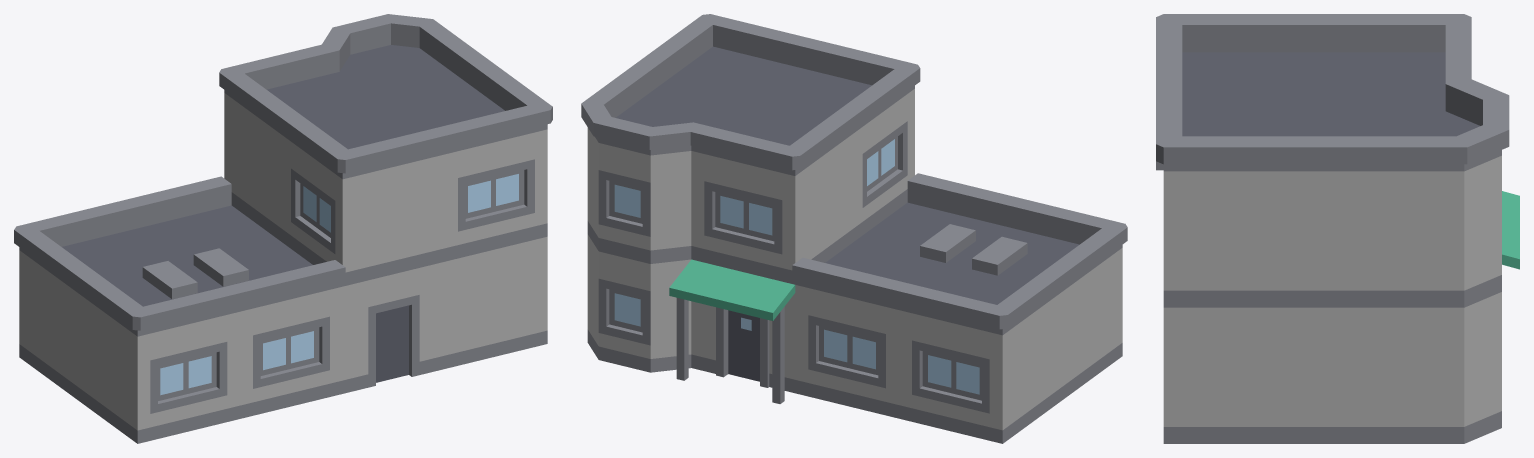
Rendered from small_buildingE.obj.
3 renders of one model, left to right at view 1: azimuth 30°, elevation 25°; view 2: azimuth 150°, elevation 25°; view 3: azimuth 270°, elevation 25°, orthographic. The views are drawn at different scales.
Visible parts, largest first — view 1: small_buildingE; view 2: small_buildingE; view 3: small_buildingE.
Part boxes in pixels (<box>): small_buildingE: <box>14,14,552,443</box>; small_buildingE: <box>581,14,1127,443</box>; small_buildingE: <box>1156,14,1519,443</box>.
Size of the model in its own units: 1.64 by 0.88 by 0.9679.
